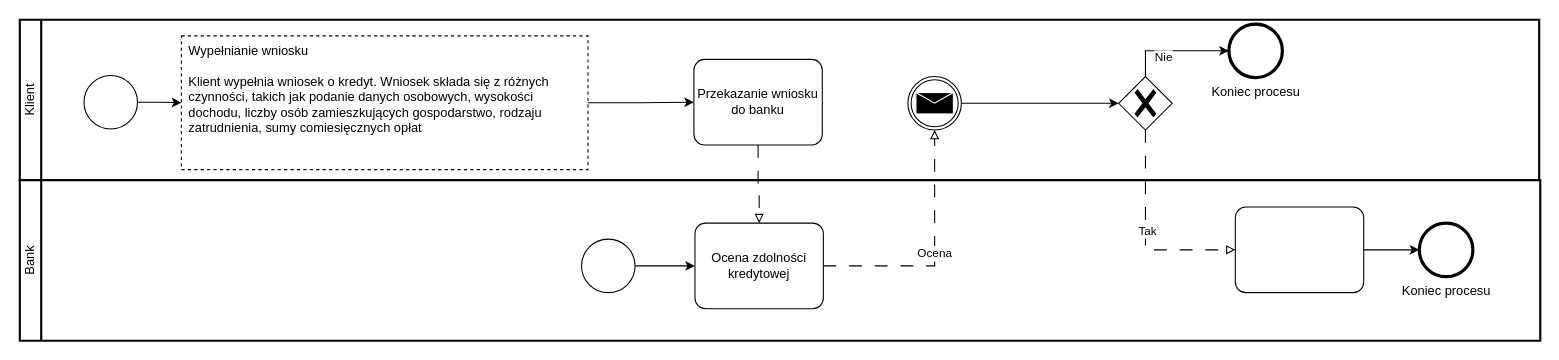
Some shapes in this 1559 by 360 pixel diagram are drawn without their labels. Here are the shapes that lost their labels. From the top down, the box of each, then its label:
(83, 74, 137, 129): Wybór oferty kredytu
(907, 75, 961, 130): Przekazanie decyzji banku
(1118, 75, 1172, 130): Wybór klienta czy zgadza się na warunki
(1234, 206, 1364, 293): Podpisanie umowy
